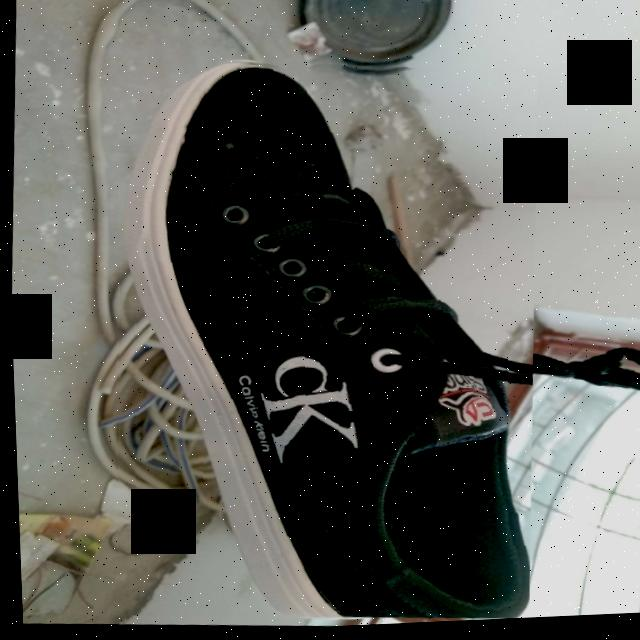shoe: (92, 43, 554, 637)
